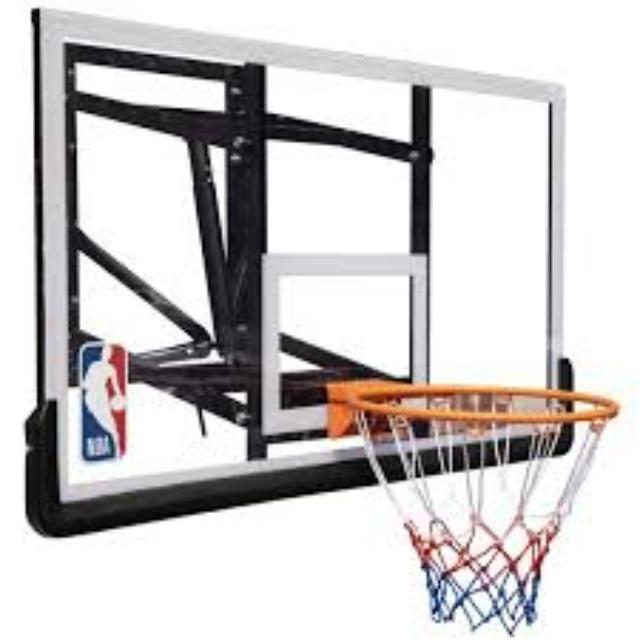rim: (350, 385, 620, 623)
